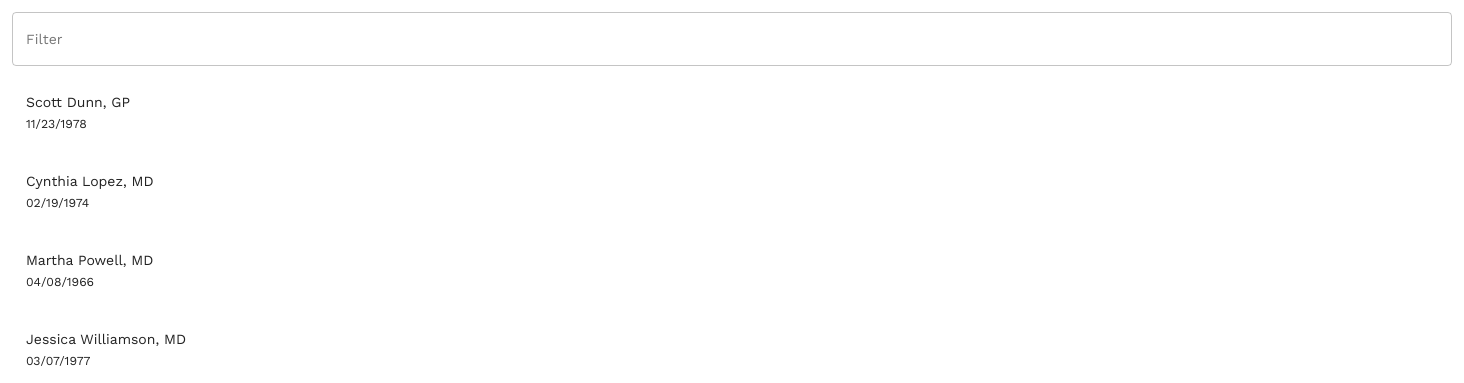
Test: DoctorList › renders no results status if filter returns no results
In the field labelled "Filter": [732, 39] box [12,12,1452,66], type "claude debussy"
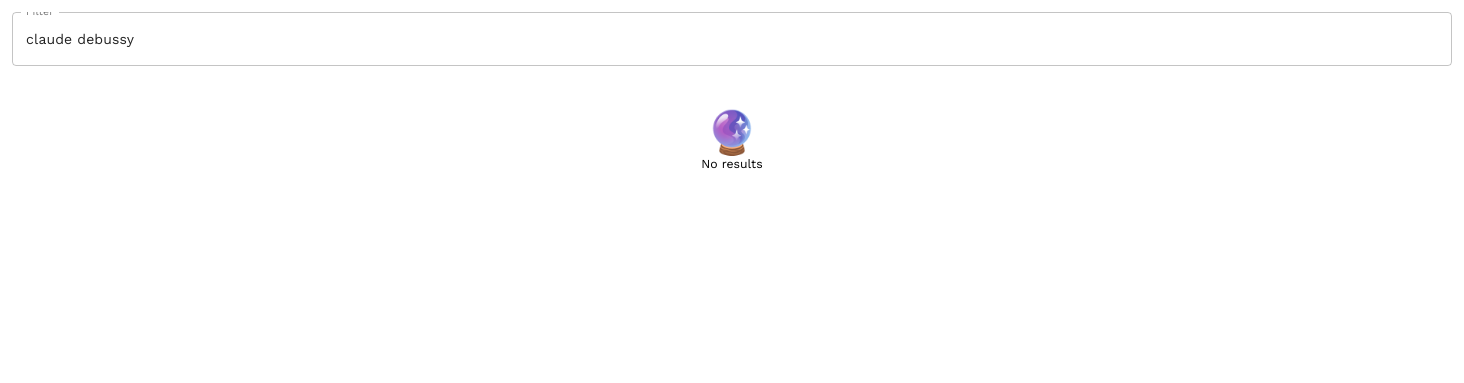
Expected: the text "No results" is shown, [701,157,763,171]
